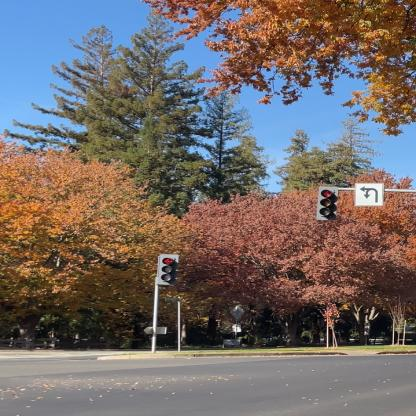left-red: (316, 184, 340, 222), (156, 252, 180, 286)
